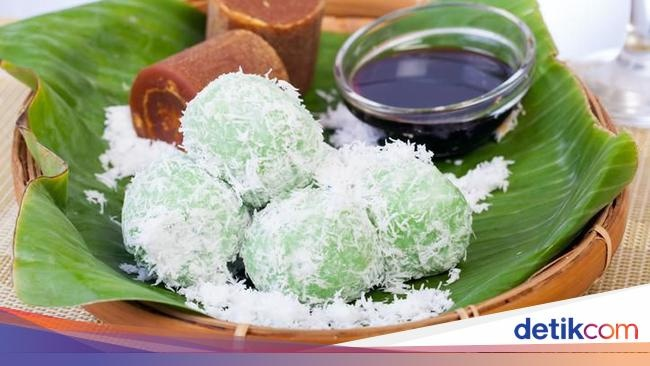klepon: (155, 48, 341, 190)
